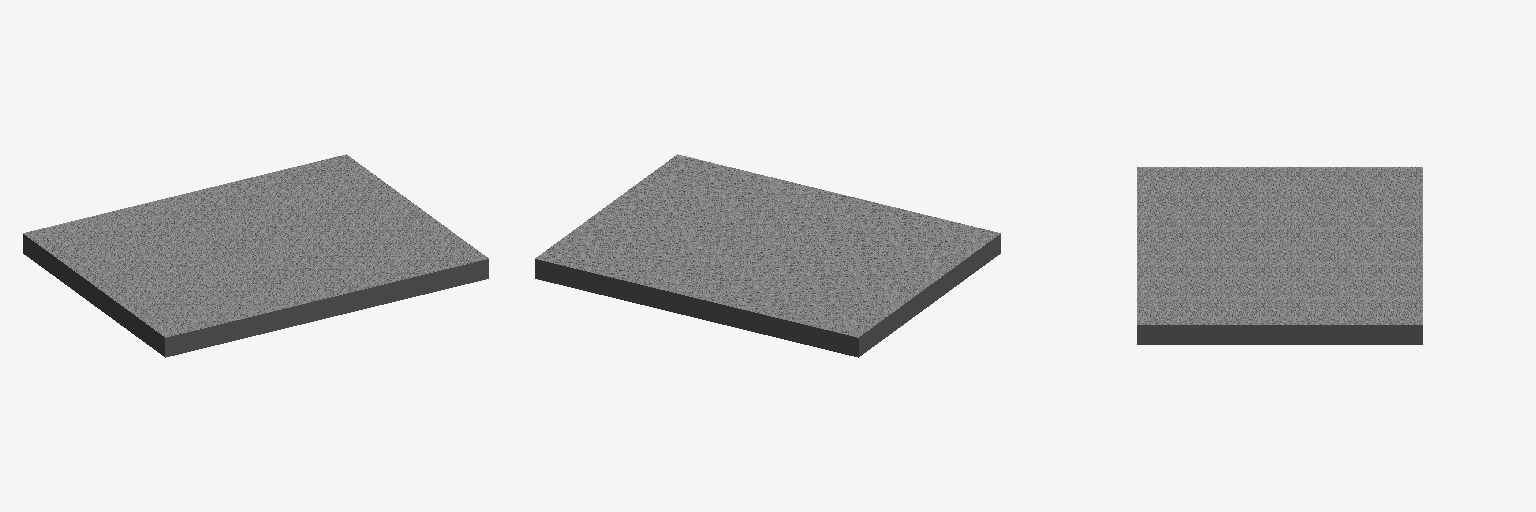
The picture shows the model from 3 angles: view 1: azimuth 30°, elevation 25°; view 2: azimuth 150°, elevation 25°; view 3: azimuth 270°, elevation 25°; orthographic projection.
Parts seen in each view (by area): view 1: 床_立方体.001_立方体.010; view 2: 床_立方体.001_立方体.010; view 3: 床_立方体.001_立方体.010.
Part boxes in pixels (bbox=[...]): 床_立方体.001_立方体.010: bbox=[23, 154, 488, 357]; 床_立方体.001_立方体.010: bbox=[535, 154, 1000, 357]; 床_立方体.001_立方体.010: bbox=[1137, 167, 1422, 344].
Size of the model in its own units: 34.1 by 2 by 26.04.
Materials: 1 (1 with a texture image).